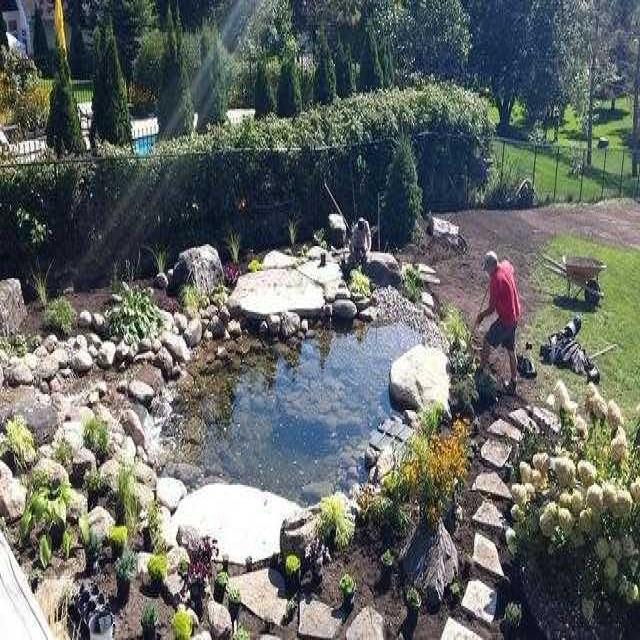Ponds: (102, 252, 469, 574)
